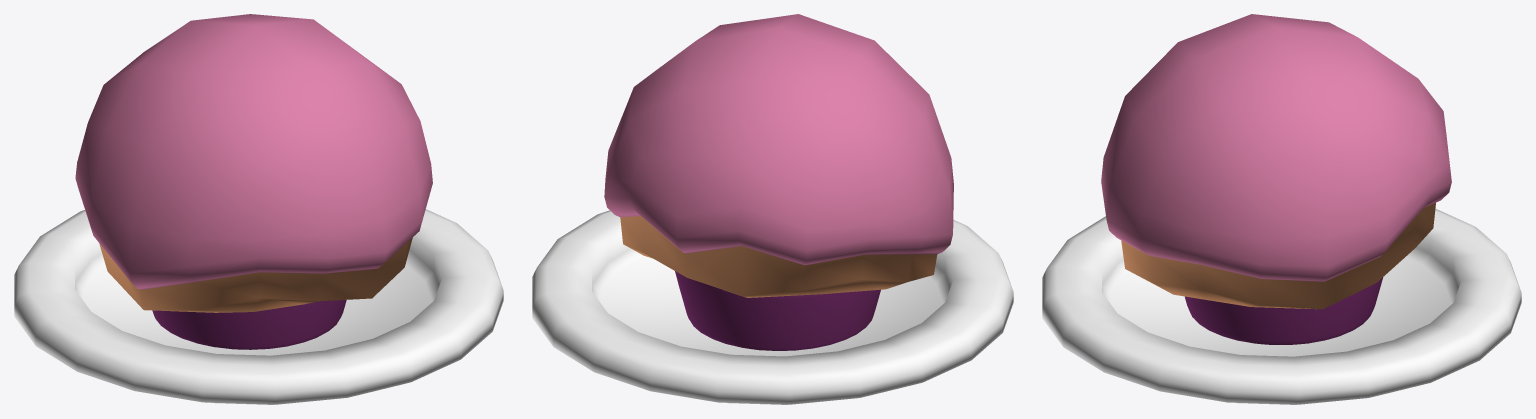
Rendered from Muffin_w_Plate_Food.glb.
3 views of the same model, side by side, from view 1: azimuth 30°, elevation 25°; view 2: azimuth 150°, elevation 25°; view 3: azimuth 270°, elevation 25° (orthographic). The views are drawn at different scales.
Visible parts, largest first — view 1: Muffin_w_Plate_Food; view 2: Muffin_w_Plate_Food; view 3: Muffin_w_Plate_Food.
Boxes of the visible parts, x1,y1,x2,y2 form: Muffin_w_Plate_Food: [14, 14, 503, 404]; Muffin_w_Plate_Food: [532, 14, 1013, 404]; Muffin_w_Plate_Food: [1042, 14, 1521, 404].
Bounding box in the file's own units: 0.1089 × 0.0759 × 0.1086.
Materials: 1 (1 with a texture image).
